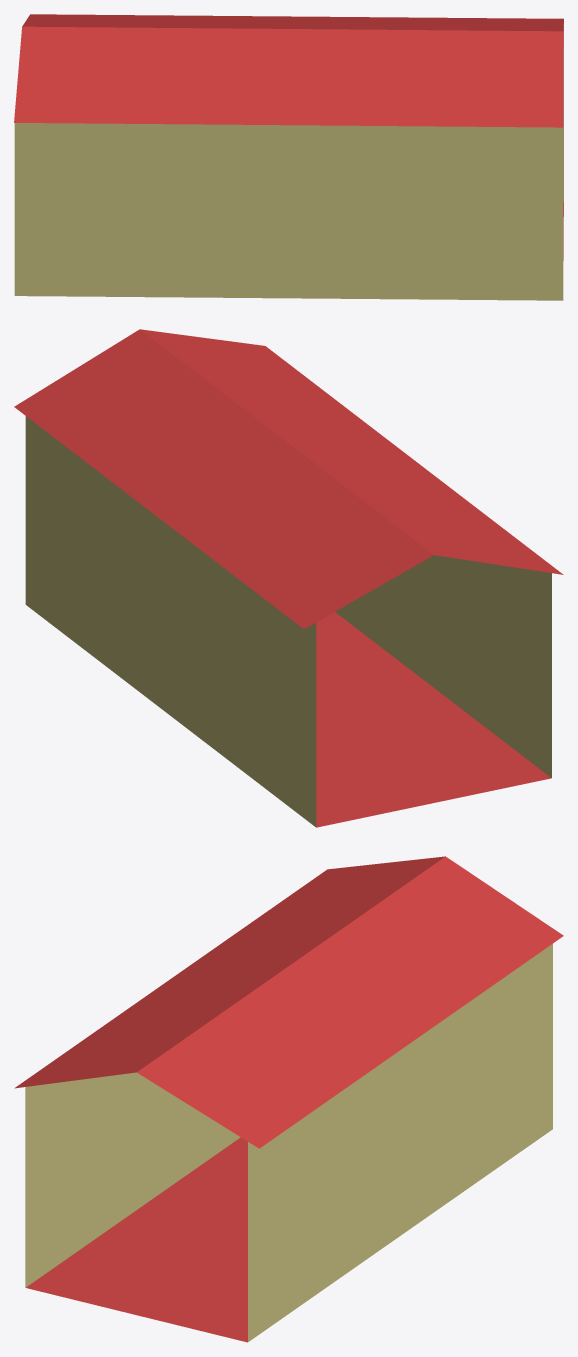
The picture shows the model from 3 angles, top to bottom: view 1: azimuth 30°, elevation 25°; view 2: azimuth 150°, elevation 25°; view 3: azimuth 270°, elevation 25°; orthographic projection. The views are drawn at different scales.
Parts seen in each view (by area): view 1: group_5, group_3, group_4; view 2: group_5, group_3, group_6, group_4; view 3: group_5, group_3, group_6, group_4.
Boxes of the visible parts, <box> form: group_5: <box>14,23,563,300</box>; group_3: <box>14,14,563,127</box>; group_4: <box>14,14,562,126</box>; group_5: <box>25,416,551,827</box>; group_3: <box>14,329,563,629</box>; group_6: <box>316,612,551,827</box>; group_4: <box>17,358,561,627</box>; group_5: <box>25,944,552,1341</box>; group_3: <box>14,856,563,1148</box>; group_6: <box>26,1137,247,1342</box>; group_4: <box>50,869,561,1146</box>.
Size of the model in its own units: 24.91 by 20.72 by 10.09.
